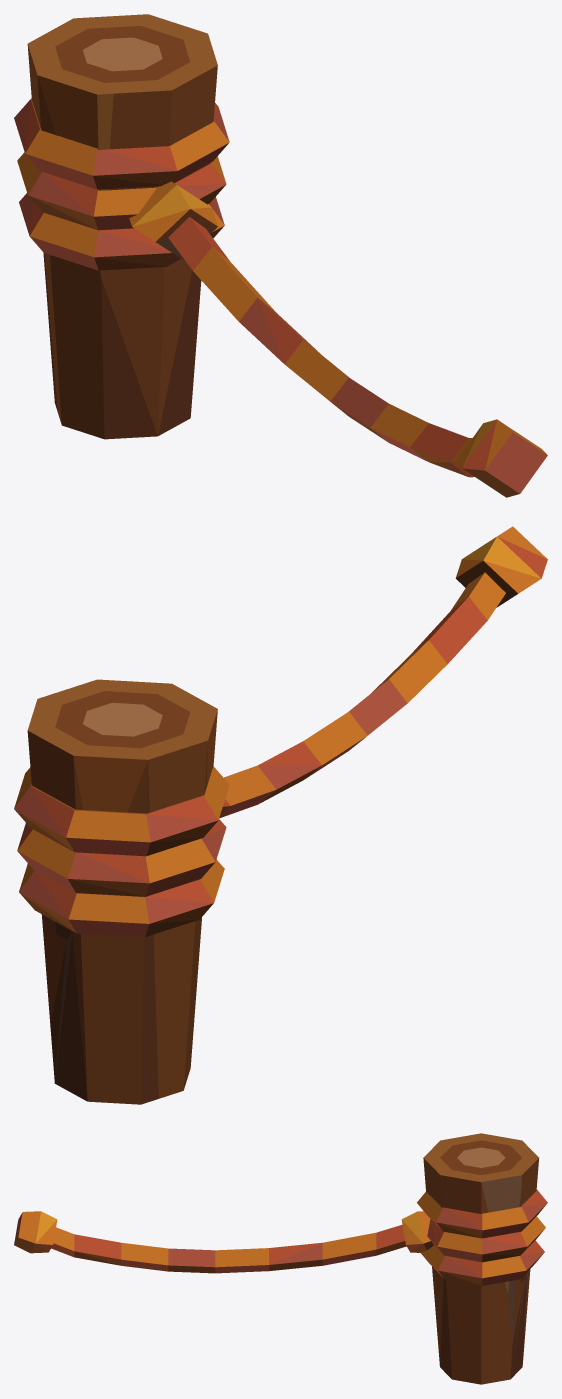
File: itch_fishing_village_fence_rope.glb
3 renders of one model, top to bottom at view 1: azimuth 30°, elevation 25°; view 2: azimuth 150°, elevation 25°; view 3: azimuth 270°, elevation 25°, orthographic. The views are drawn at different scales.
Visible parts, largest first — view 1: fence_rope.001; view 2: fence_rope.001; view 3: fence_rope.001.
Part boxes in pixels (x1,y1,x2,y2): fence_rope.001: (14,14,547,497); fence_rope.001: (14,526,547,1104); fence_rope.001: (14,1133,547,1384).
Bounding box in the file's own units: 0.2901 × 0.5106 × 1.18.
